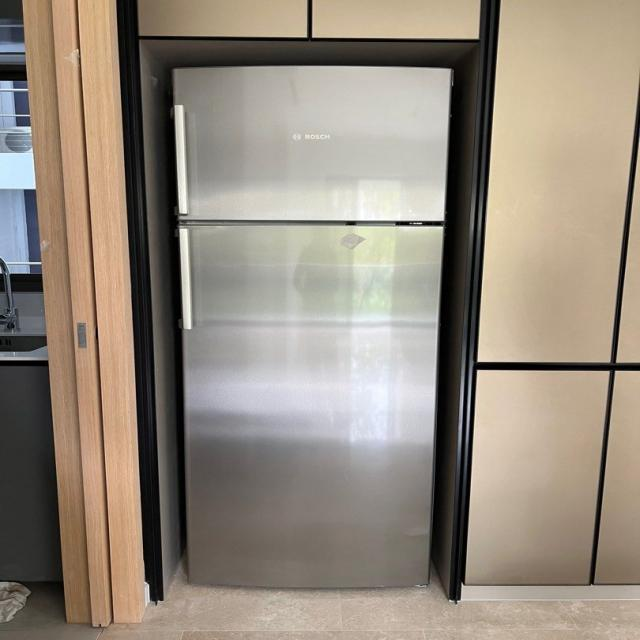refrigerator: (164, 21, 456, 612)
